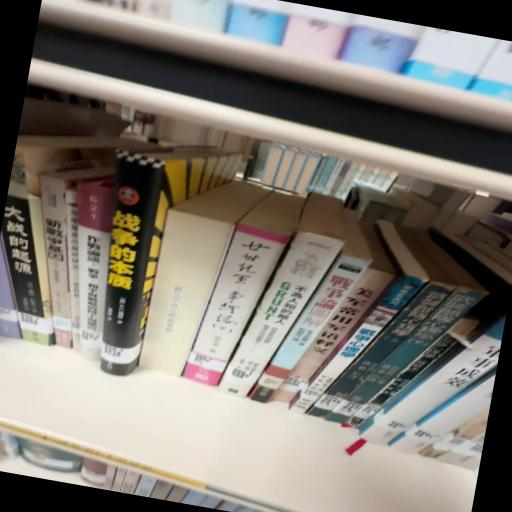backward: (138, 181, 269, 376)
